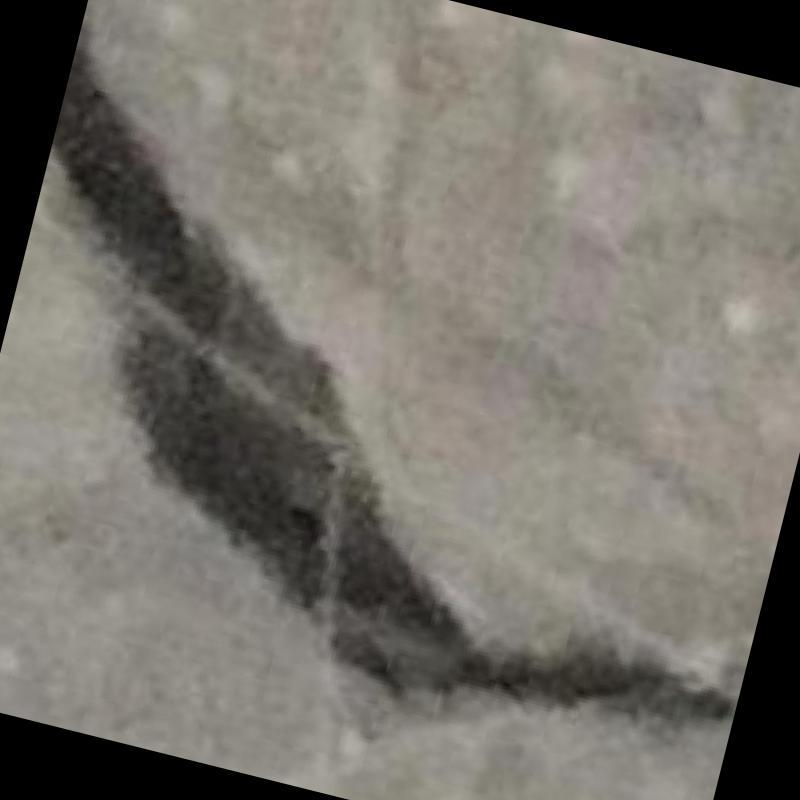pothole: (51, 27, 734, 718)
